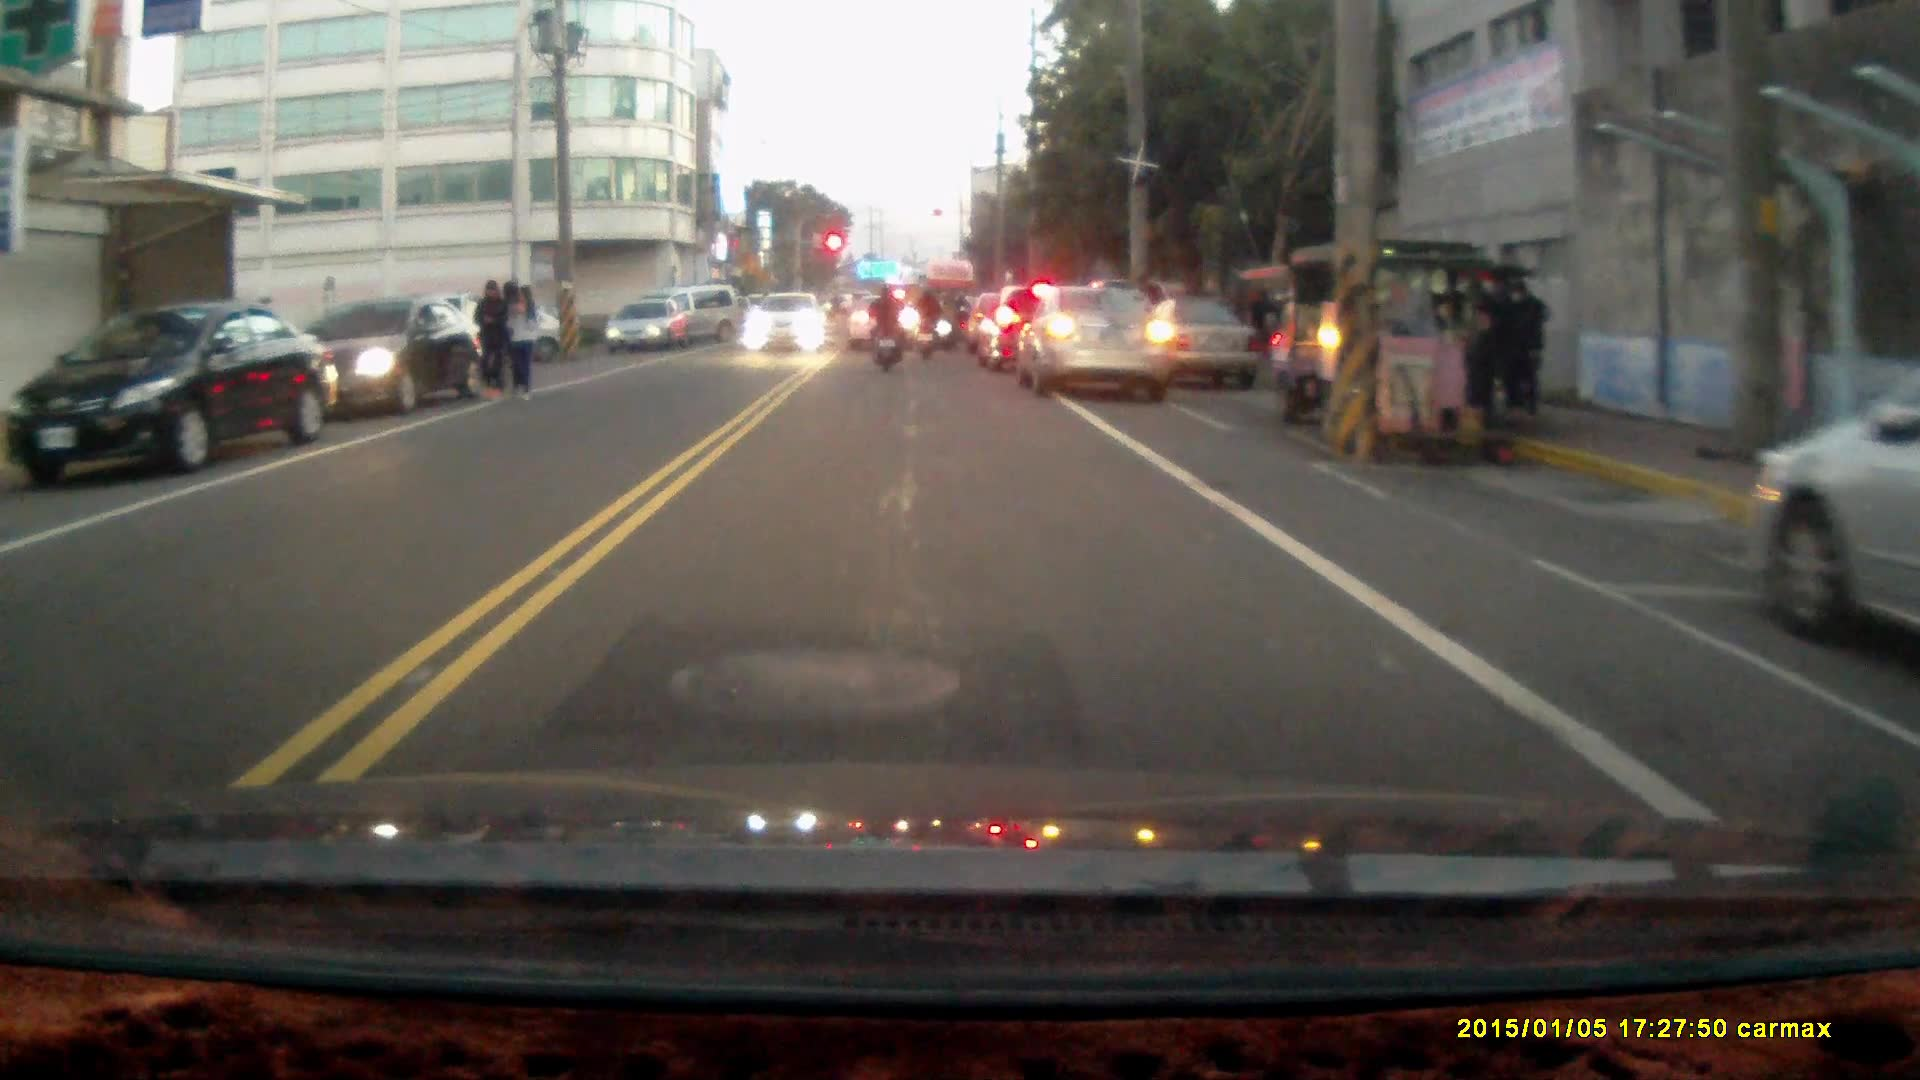pedestrian: (1499, 279, 1551, 426), (470, 277, 510, 404), (506, 283, 538, 404)
rider: (867, 281, 905, 372), (909, 281, 942, 363)
vehicle: (22, 299, 332, 486), (1262, 242, 1532, 450), (1746, 385, 1920, 651), (304, 297, 486, 425), (1021, 283, 1175, 401), (746, 294, 831, 355), (609, 302, 692, 357), (849, 295, 926, 355)
